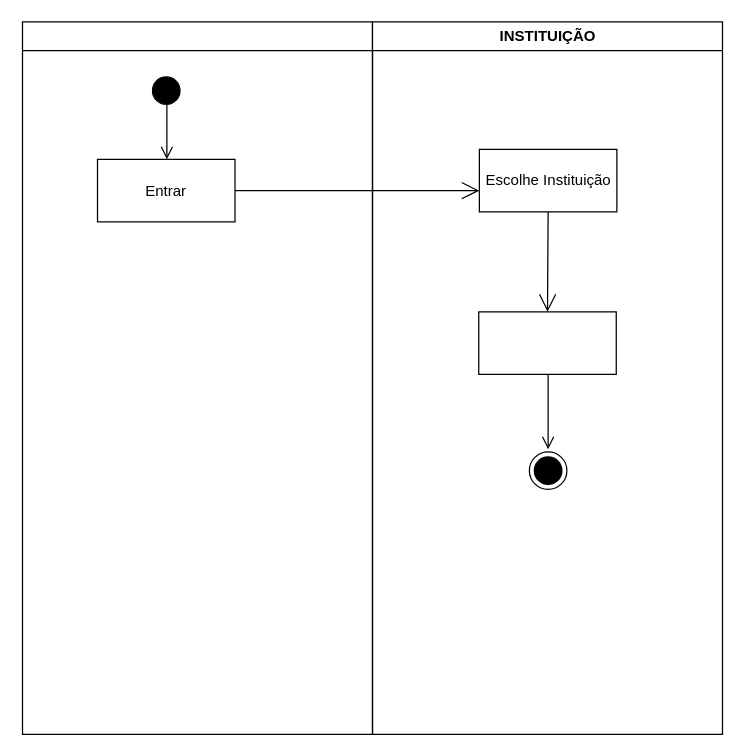
Image size: 744x756. Some labels were removed from this diagram. The box of each missing label's shape, as (x1, y1, x2, y2) in pixels:
DOADOR: (21, 21, 372, 734)
Informações sobre as Instituições: (478, 311, 616, 374)
